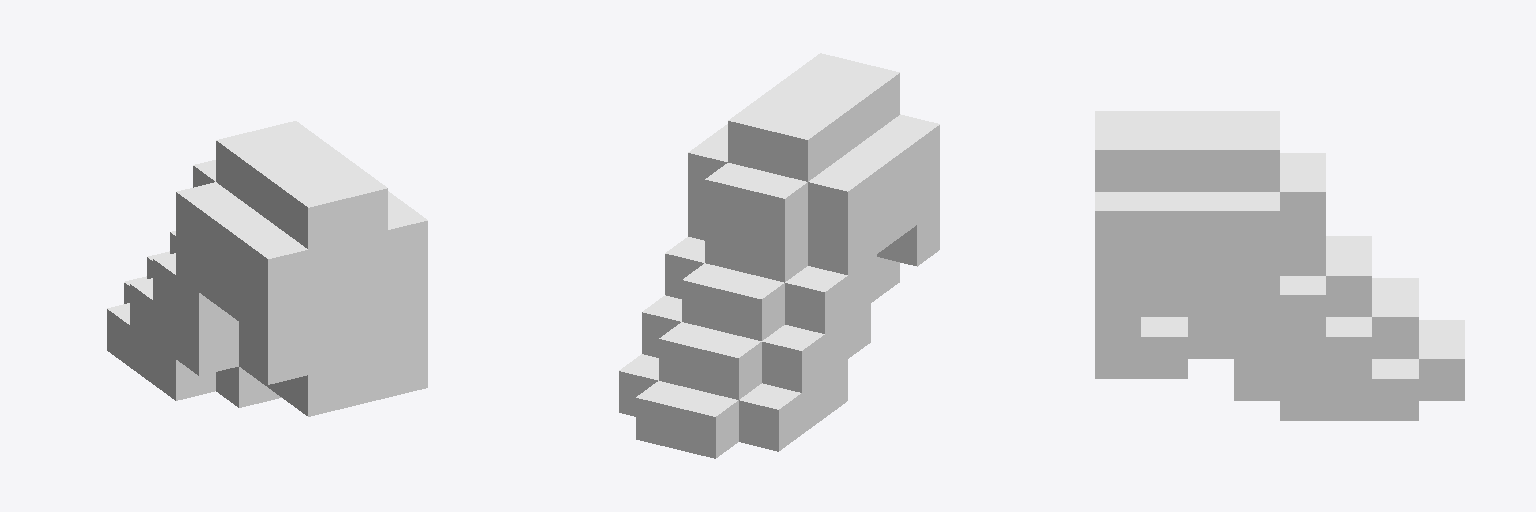
The model's file is Bernard_tail_upper.obj.
The picture shows the model from 3 angles: view 1: azimuth 30°, elevation 25°; view 2: azimuth 150°, elevation 25°; view 3: azimuth 270°, elevation 25°; orthographic projection.
Parts seen in each view (by area): view 1: Bernard; view 2: Bernard; view 3: Bernard.
Part boxes in pixels (bbox=[...]): Bernard: bbox=[107, 121, 427, 416]; Bernard: bbox=[619, 53, 939, 458]; Bernard: bbox=[1095, 111, 1464, 420].
Size of the model in its own units: 0.4 by 0.6 by 0.8.